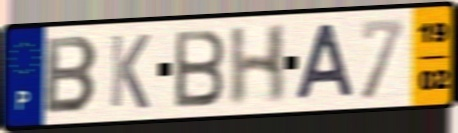7: (359, 15, 408, 102)
A: (293, 21, 357, 103)
B: (42, 35, 101, 117), (172, 27, 228, 110)
H: (227, 21, 291, 110)
K: (107, 32, 152, 111)
